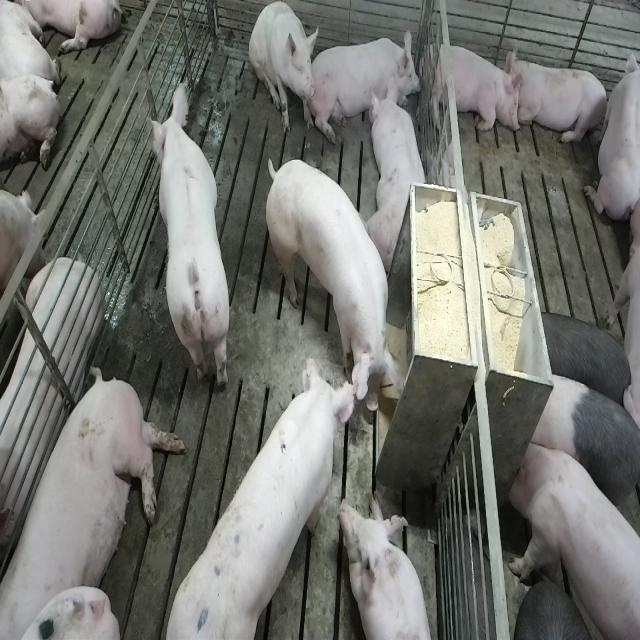Lateral_lying: (5, 362, 187, 636), (0, 227, 104, 563)
Sitting: (249, 2, 318, 136)
Standing: (162, 354, 361, 635), (263, 160, 402, 419), (504, 435, 637, 640), (148, 82, 232, 397), (528, 372, 639, 536), (536, 307, 630, 408)
Sternal_lying: (343, 495, 436, 640), (313, 25, 422, 138), (370, 86, 430, 273), (424, 37, 522, 138), (509, 52, 610, 149), (584, 41, 637, 224)
